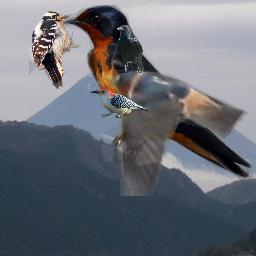Crow: (117, 25, 144, 73)
Swallow: (60, 5, 253, 182), (110, 65, 248, 196)
Woodpecker: (29, 10, 81, 89), (90, 88, 148, 119)
